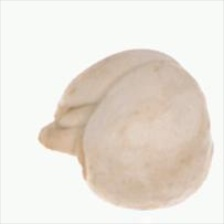L3: (37, 103, 97, 181)
L4: (37, 49, 212, 210)
